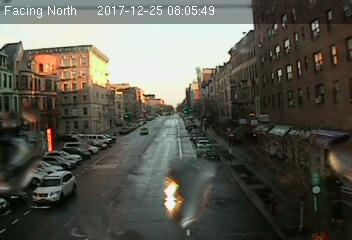car: (29, 168, 76, 203)
